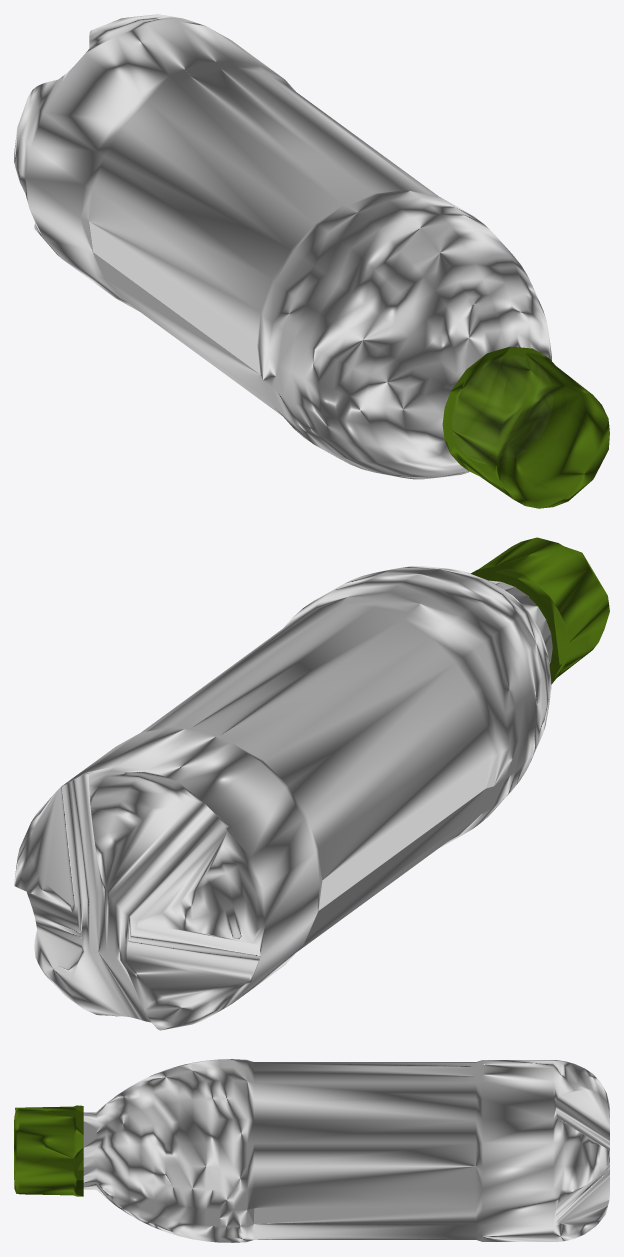
File: model_align.obj
3 views of the same model, one above another, from view 1: azimuth 30°, elevation 25°; view 2: azimuth 150°, elevation 25°; view 3: azimuth 270°, elevation 25° (orthographic). The views are drawn at different scales.
Bounding box in the file's own units: 0.0622 × 0.0622 × 0.2009.
